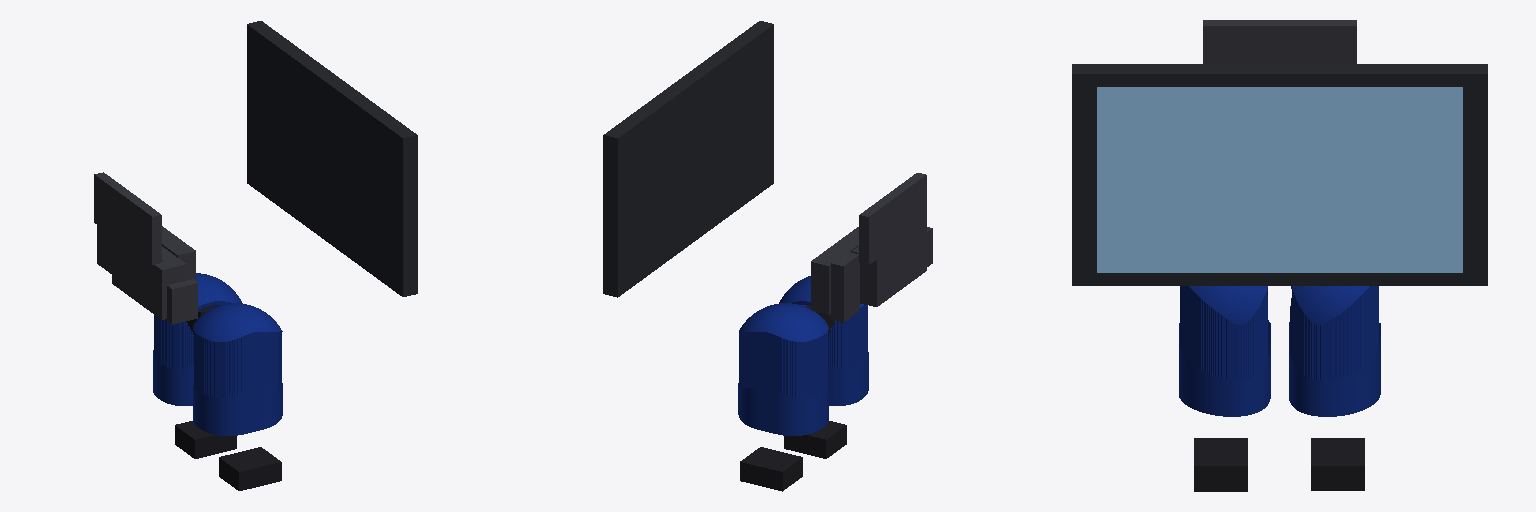
URDF robot description (haetburi):
<?xml version="1.0"?>
<!-- Haetburi biped (v22_sts3032) - generated by tools/build_model.py, do not edit by hand -->
<robot name="haetburi">
  <mujoco>
    <compiler meshdir="." balanceinertia="true" discardvisual="false" strippath="false" fusestatic="false"/>
  </mujoco>
  <material name="display"><color rgba="0.18 0.19 0.21 1"/></material>
  <material name="screen"><color rgba="0.62 0.80 0.95 1"/></material>
  <material name="shell"><color rgba="0.106 0.216 0.541 1"/></material>
  <material name="motor"><color rgba="0.15 0.15 0.17 1"/></material>
  <material name="foot"><color rgba="0.25 0.25 0.28 1"/></material>
  <link name="world"/>
  <joint name="floating_base" type="floating">
    <parent link="world"/><child link="pelvis"/>
    <origin xyz="0 0 0" rpy="0 0 0"/>
  </joint>
  <link name="pelvis">
    <inertial>
      <origin xyz="-0.00973566 -0.000575837 0.0365845" rpy="0 0 0"/>
      <mass value="0.383259"/>
      <inertia ixx="0.000465747" ixy="-8.42395e-06" ixz="0.000182429" iyy="0.000506398" iyz="4.9711e-06" izz="0.000479237"/>
    </inertial>
    <visual><origin xyz="0 0 0" rpy="0 0 0"/><geometry><mesh filename="meshes/pelvis.stl"/></geometry><material name="shell"/></visual>
    <visual><origin xyz="0.00250246 0.0188704 0.0165" rpy="0 0 0"/><geometry><box size="0.012 0.0275 0.023"/></geometry><material name="motor"/></visual>
    <visual><origin xyz="0.00249754 -0.0186526 0.0165" rpy="0 0 0"/><geometry><box size="0.012 0.0275 0.023"/></geometry><material name="motor"/></visual>
    <visual><origin xyz="-0.04568 -0.00988 0.068" rpy="0 0 0"/><geometry><box size="0.016 0.056 0.031"/></geometry><material name="foot"/></visual>
    <visual><origin xyz="-0.02968 0.00812 0.068" rpy="0 0 0"/><geometry><box size="0.012 0.065 0.03"/></geometry><material name="foot"/></visual>
    <visual><origin xyz="-0.05368 0.00012 0.1" rpy="0 0 0"/><geometry><box size="0.006 0.065 0.03"/></geometry><material name="foot"/></visual>
    <visual><origin xyz="-0.04368 0.03612 0.07" rpy="0 0 0"/><geometry><box size="0.008 0.018 0.035"/></geometry><material name="foot"/></visual>
    <visual><origin xyz="-0.04368 -0.04388 0.064" rpy="0 0 0"/><geometry><box size="0.017 0.006 0.022"/></geometry><material name="foot"/></visual>
    <collision><origin xyz="0.00697563 -0.000136661 0.0299" rpy="0 0 0"/><geometry><box size="0.0836344 0.111062 0.0378"/></geometry></collision>
  </link>
  <link name="torso">
    <inertial>
      <origin xyz="0.00668132 0.000121085 0.128488" rpy="0 0 0"/>
      <mass value="1.22839"/>
      <inertia ixx="0.0158359" ixy="-5.14121e-05" ixz="0.00153248" iyy="0.0158019" iyz="-4.74609e-05" izz="0.00877504"/>
    </inertial>
    <visual><origin xyz="0 0 0" rpy="0 0 0"/><geometry><mesh filename="meshes/torso.stl"/></geometry><material name="shell"/></visual>
    <visual><origin xyz="0.0784825 0 0.0574296" rpy="0 0 0"/><geometry><box size="0.0094 0.1755 0.0985"/></geometry><material name="display"/></visual>
    <visual><origin xyz="0.0831825 0 0.0574296" rpy="0 0 0"/><geometry><box size="0.0004 0.1542 0.0866"/></geometry><material name="screen"/></visual>
    <collision><origin xyz="-0.036439 -3.00485e-07 0.0268832" rpy="0 0 0"/><geometry><box size="0.17104 0.115998 0.114213"/></geometry></collision>
    <collision><origin xyz="0.044496 0.0831901 0.0541718" rpy="0 0 0"/><geometry><sphere radius="0.0620337"/></geometry></collision>
    <collision><origin xyz="0.0448036 -0.0833279 0.0541718" rpy="0 0 0"/><geometry><sphere radius="0.0619268"/></geometry></collision>
    <collision><origin xyz="-0.005585 0.000285622 0.109669" rpy="0 0 0"/><geometry><sphere radius="0.111459"/></geometry></collision>
    <collision><origin xyz="-0.00973205 -0.000131314 0.160993" rpy="0 0 0"/><geometry><sphere radius="0.12859"/></geometry></collision>
    <collision><origin xyz="-0.0148192 -0.00021673 0.212326" rpy="0 0 0"/><geometry><sphere radius="0.127101"/></geometry></collision>
    <collision><origin xyz="-0.0116256 0.000915539 0.263656" rpy="0 0 0"/><geometry><sphere radius="0.110519"/></geometry></collision>
    <collision><origin xyz="-0.00687921 0.00724674 0.315018" rpy="0 0 0"/><geometry><sphere radius="0.0787743"/></geometry></collision>
    <collision><origin xyz="-0.0126071 -0.00239521 0.366334" rpy="0 0 0"/><geometry><sphere radius="0.0457151"/></geometry></collision>
    <collision><origin xyz="0.0784825 0 0.0574296" rpy="0 0 0"/><geometry><box size="0.0094 0.1755 0.0985"/></geometry></collision>
  </link>
  <link name="leg_l">
    <inertial>
      <origin xyz="0.000508277 0.0036472 -0.0215037" rpy="0 0 0"/>
      <mass value="0.103983"/>
      <inertia ixx="5.73623e-05" ixy="3.15507e-07" ixz="-1.77378e-06" iyy="5.7509e-05" iyz="1.36135e-07" izz="2.42396e-05"/>
    </inertial>
    <visual><origin xyz="0 0 0" rpy="0 0 0"/><geometry><mesh filename="meshes/leg_l.stl"/></geometry><material name="shell"/></visual>
    <visual><origin xyz="0.00116951 0.0032 -0.0235" rpy="0 0 0"/><geometry><box size="0.012 0.0275 0.023"/></geometry><material name="motor"/></visual>
    <collision><origin xyz="0.0028683 0.00415604 -0.0045205" rpy="0 0 0"/><geometry><box size="0.0530024 0.0387917 0.068959"/></geometry></collision>
  </link>
  <link name="ankle_l">
    <inertial>
      <origin xyz="0.00359784 -0.00156438 -0.021" rpy="0 0 0"/>
      <mass value="0.0218531"/>
      <inertia ixx="6.12617e-06" ixy="0" ixz="0" iyy="3.94085e-06" iyz="0" izz="3.64219e-06"/>
    </inertial>
  </link>
  <link name="foot_l">
    <inertial>
      <origin xyz="0.000512288 0.00462479 -0.000920763" rpy="0 0 0"/>
      <mass value="0.0867579"/>
      <inertia ixx="1.73764e-05" ixy="-8.62792e-07" ixz="-2.11128e-07" iyy="2.63174e-05" iyz="-7.80465e-07" izz="3.05848e-05"/>
    </inertial>
    <visual><origin xyz="0 0 0" rpy="0 0 0"/><geometry><mesh filename="meshes/foot_l.stl"/></geometry><material name="shell"/></visual>
    <visual><origin xyz="0 0.0055 4.44089e-19" rpy="0 0 0"/><geometry><box size="0.0275 0.023 0.012"/></geometry><material name="motor"/></visual>
    <collision><origin xyz="0 0 0" rpy="0 0 0"/><geometry><mesh filename="meshes/foot_l.stl"/></geometry></collision>
  </link>
  <link name="leg_r">
    <inertial>
      <origin xyz="0.000498323 -0.0041676 -0.0215153" rpy="0 0 0"/>
      <mass value="0.103889"/>
      <inertia ixx="5.73113e-05" ixy="-2.98898e-07" ixz="-1.76335e-06" iyy="5.74369e-05" iyz="-1.17941e-07" izz="2.41938e-05"/>
    </inertial>
    <visual><origin xyz="0 0 0" rpy="0 0 0"/><geometry><mesh filename="meshes/leg_r.stl"/></geometry><material name="shell"/></visual>
    <visual><origin xyz="0.00115821 -0.0037 -0.0235" rpy="0 0 0"/><geometry><box size="0.012 0.0275 0.023"/></geometry><material name="motor"/></visual>
    <collision><origin xyz="0.00286914 -0.00464726 -0.00453975" rpy="0 0 0"/><geometry><box size="0.0529781 0.0388443 0.0689205"/></geometry></collision>
  </link>
  <link name="ankle_r">
    <inertial>
      <origin xyz="0.00365946 0.00145788 -0.021" rpy="0 0 0"/>
      <mass value="0.0218531"/>
      <inertia ixx="6.12617e-06" ixy="0" ixz="0" iyy="3.94085e-06" iyz="0" izz="3.64219e-06"/>
    </inertial>
  </link>
  <link name="foot_r">
    <inertial>
      <origin xyz="0.00040167 -0.00452023 -0.000959733" rpy="0 0 0"/>
      <mass value="0.0865718"/>
      <inertia ixx="1.7241e-05" ixy="8.98297e-07" ixz="-1.46734e-07" iyy="2.61841e-05" iyz="7.6138e-07" izz="3.04562e-05"/>
    </inertial>
    <visual><origin xyz="0 0 0" rpy="0 0 0"/><geometry><mesh filename="meshes/foot_r.stl"/></geometry><material name="shell"/></visual>
    <visual><origin xyz="0 -0.0055 4.44089e-19" rpy="0 0 0"/><geometry><box size="0.0275 0.023 0.012"/></geometry><material name="motor"/></visual>
    <collision><origin xyz="0 0 0" rpy="0 0 0"/><geometry><mesh filename="meshes/foot_r.stl"/></geometry></collision>
  </link>
  <joint name="waist_fixed" type="fixed">
    <parent link="pelvis"/><child link="torso"/>
    <origin xyz="0 0 0.0488" rpy="0 0 0"/>
  </joint>
  <joint name="hip_pitch_l" type="revolute">
    <parent link="pelvis"/><child link="leg_l"/>
    <origin xyz="0.00250246 0.0188704 0.011" rpy="0 0 0"/>
    <axis xyz="0 1 0"/>
    <limit lower="-0.506145" upper="0.436332" effort="0.44" velocity="11.6"/>
    <dynamics damping="0.03142857142857144" friction="0.012571428571428574"/>
  </joint>
  <joint name="hip_pitch_r" type="revolute">
    <parent link="pelvis"/><child link="leg_r"/>
    <origin xyz="0.00249754 -0.0186526 0.011" rpy="0 0 0"/>
    <axis xyz="0 1 0"/>
    <limit lower="-0.506145" upper="0.436332" effort="0.44" velocity="11.6"/>
    <dynamics damping="0.03142857142857144" friction="0.012571428571428574"/>
  </joint>
  <joint name="ankle_pitch_l" type="revolute">
    <parent link="leg_l"/><child link="ankle_l"/>
    <origin xyz="0.00116951 0.0032 -0.029" rpy="0 0 0"/>
    <axis xyz="0 1 0"/>
    <limit lower="-0.261799" upper="0.261799" effort="0.44" velocity="11.6"/>
    <dynamics damping="0.03142857142857144" friction="0.012571428571428574"/>
  </joint>
  <joint name="ankle_pitch_r" type="revolute">
    <parent link="leg_r"/><child link="ankle_r"/>
    <origin xyz="0.00115821 -0.0037 -0.029" rpy="0 0 0"/>
    <axis xyz="0 1 0"/>
    <limit lower="-0.261799" upper="0.261799" effort="0.44" velocity="11.6"/>
    <dynamics damping="0.03142857142857144" friction="0.012571428571428574"/>
  </joint>
  <joint name="ankle_roll_l" type="revolute">
    <parent link="ankle_l"/><child link="foot_l"/>
    <origin xyz="0.00719569 -0.00312877 -0.042" rpy="0 0 0"/>
    <axis xyz="1 0 0"/>
    <limit lower="-0.261799" upper="0.261799" effort="0.44" velocity="11.6"/>
    <dynamics damping="0.03142857142857144" friction="0.012571428571428574"/>
  </joint>
  <joint name="ankle_roll_r" type="revolute">
    <parent link="ankle_r"/><child link="foot_r"/>
    <origin xyz="0.00731892 0.00291576 -0.042" rpy="0 0 0"/>
    <axis xyz="1 0 0"/>
    <limit lower="-0.261799" upper="0.261799" effort="0.44" velocity="11.6"/>
    <dynamics damping="0.03142857142857144" friction="0.012571428571428574"/>
  </joint>
</robot>

--- Render facts (derived) ---
Views: 3 orthographic renders of the robot side by side, from view 1: azimuth 30°, elevation 25°; view 2: azimuth 150°, elevation 25°; view 3: azimuth 270°, elevation 25°.
Robot: haetburi — 9 links, 8 joints (6 revolute, 1 fixed, 1 floating); root link world; default pose: every joint at zero.
Visible links, largest first — view 1: torso, leg_r, pelvis, leg_l, foot_r, foot_l; view 2: torso, leg_l, pelvis, leg_r, foot_l, foot_r; view 3: torso, leg_l, leg_r, pelvis, foot_r, foot_l.
Link boxes in pixels (box(x1,y1,x2,y2)): torso: box(247, 21, 417, 296); leg_r: box(193, 303, 282, 435); pelvis: box(94, 172, 216, 334); leg_l: box(153, 273, 242, 405); foot_r: box(219, 447, 281, 490); foot_l: box(175, 421, 236, 458); torso: box(603, 21, 773, 297); leg_l: box(738, 303, 828, 435); pelvis: box(805, 173, 932, 333); leg_r: box(779, 276, 868, 405); foot_l: box(740, 447, 802, 491); foot_r: box(784, 421, 846, 458); torso: box(1072, 64, 1487, 285); leg_l: box(1289, 286, 1380, 416); leg_r: box(1179, 286, 1270, 416); pelvis: box(1203, 20, 1356, 294); foot_r: box(1194, 438, 1247, 491); foot_l: box(1311, 438, 1364, 490).
Size in the robot's own frame: 0.1401 by 0.1755 by 0.2215 metres.
Meshes: 6 distinct files referenced, 2 mesh visuals loaded (2 binary STL); not drawn: 4 (reference not matched to a file when rendering).
